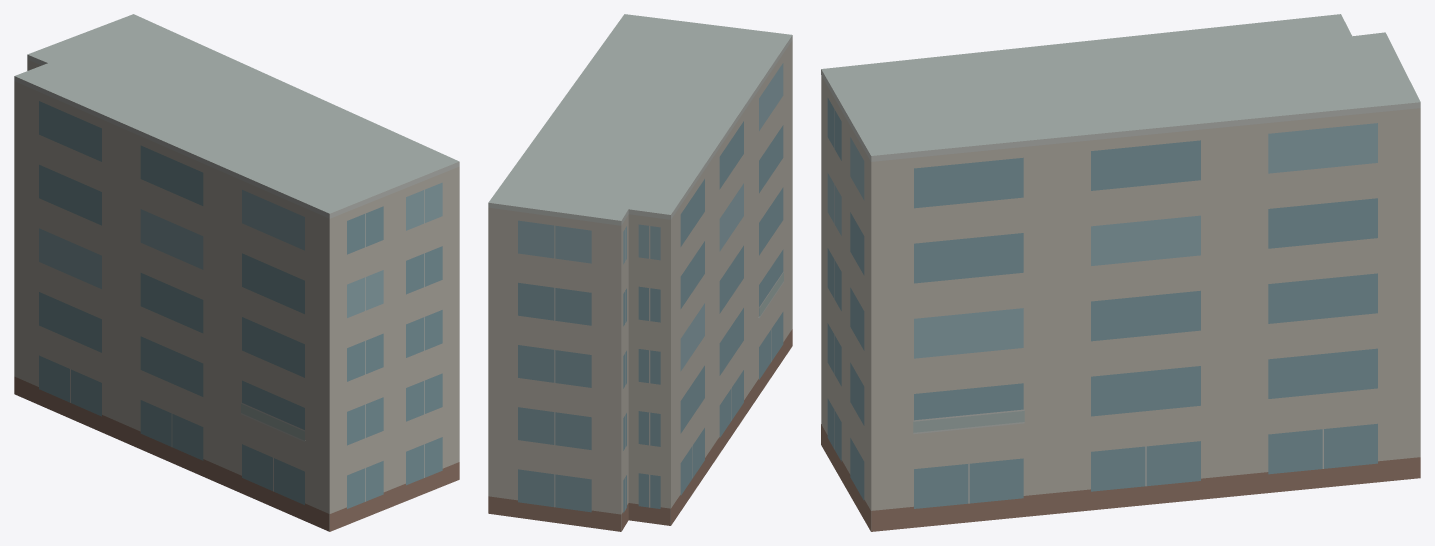
File: survey-upis-32809828.glb
3 renders of one model, left to right at view 1: azimuth 30°, elevation 25°; view 2: azimuth 150°, elevation 25°; view 3: azimuth 270°, elevation 25°, orthographic. The views are drawn at different scales.
Visible parts, largest first — view 1: survey-upis-32809828.tmp; view 2: survey-upis-32809828.tmp; view 3: survey-upis-32809828.tmp.
Boxes of the visible parts, left/top/right/bottom form: survey-upis-32809828.tmp: left=14, top=14, right=459, bottom=531; survey-upis-32809828.tmp: left=488, top=14, right=792, bottom=531; survey-upis-32809828.tmp: left=821, top=14, right=1420, bottom=531.
Bounding box in the file's own units: 12.63 × 15.57 × 22.52.
